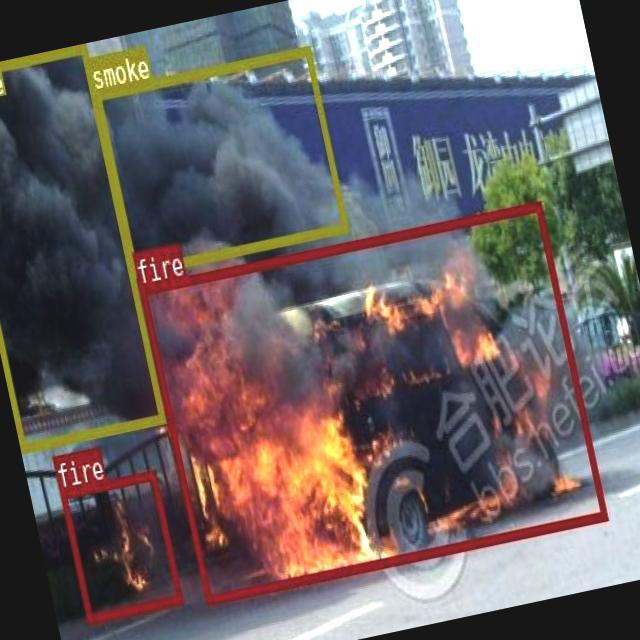fire: (138, 199, 606, 602), (57, 468, 182, 622)
smoke: (0, 43, 164, 452), (94, 43, 348, 274)
